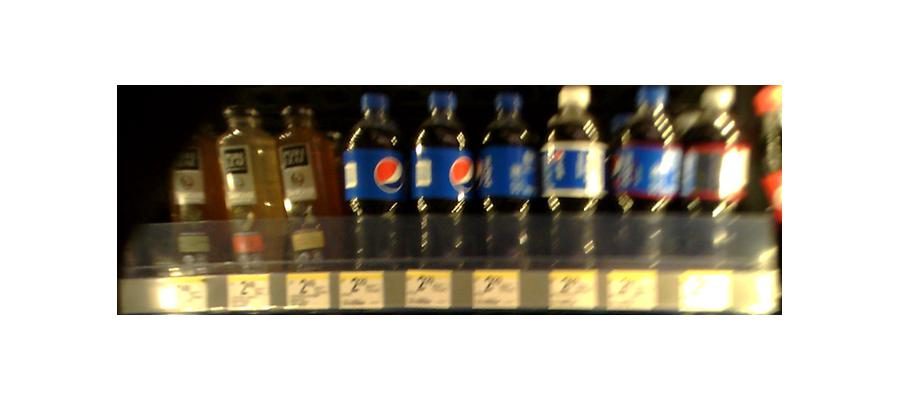bottle: (610, 83, 679, 265), (538, 87, 604, 271), (342, 91, 406, 265), (680, 89, 747, 255), (412, 87, 472, 263), (474, 91, 535, 262), (222, 109, 283, 274), (279, 109, 332, 272), (172, 112, 213, 276)
